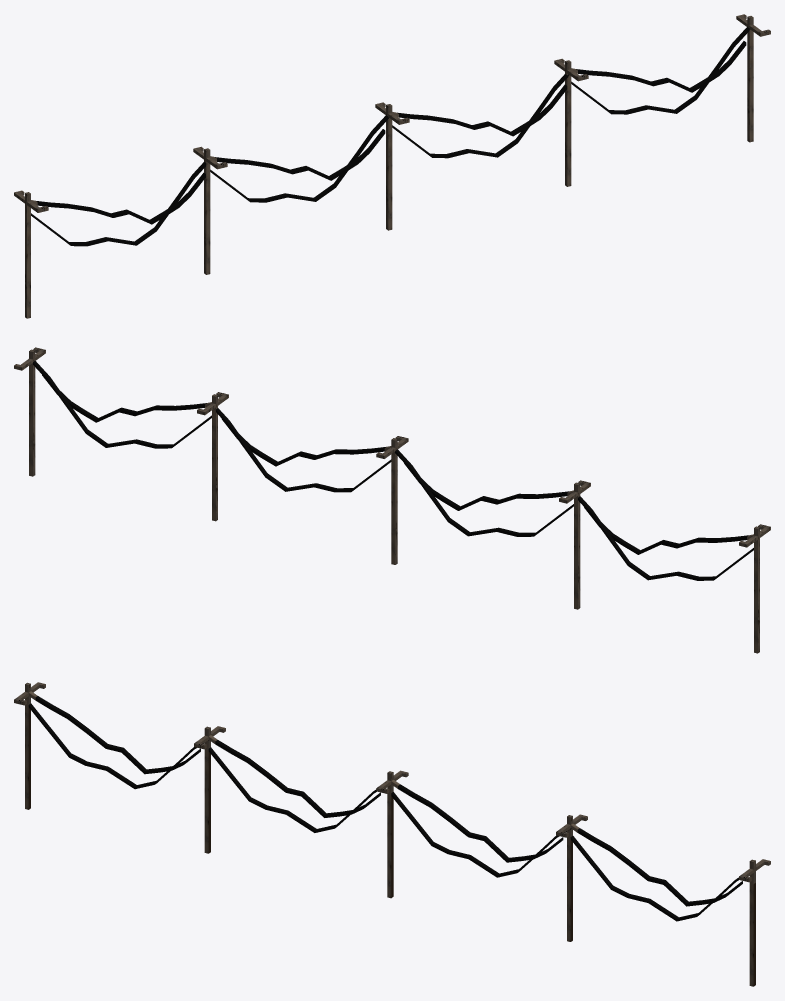
Rendered from Electric_lines.obj.
3 views of the same model, one above another, from view 1: azimuth 30°, elevation 25°; view 2: azimuth 150°, elevation 25°; view 3: azimuth 330°, elevation 25° (orthographic).
Parts seen in each view (by area): view 1: electriclines; view 2: electriclines; view 3: electriclines.
Boxes of the visible parts, x1,y1,x2,y2 form: electriclines: (14,14,770,318); electriclines: (14,347,770,653); electriclines: (14,682,770,986).
Size of the model in its own units: 275 by 44.46 by 15.53.
2 materials, 1 textured.
